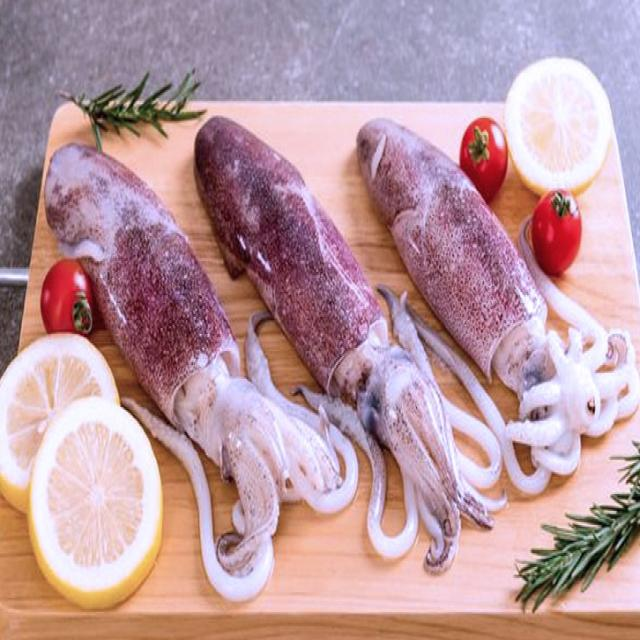SQUID: (0, 122, 335, 640), (362, 110, 596, 404)
